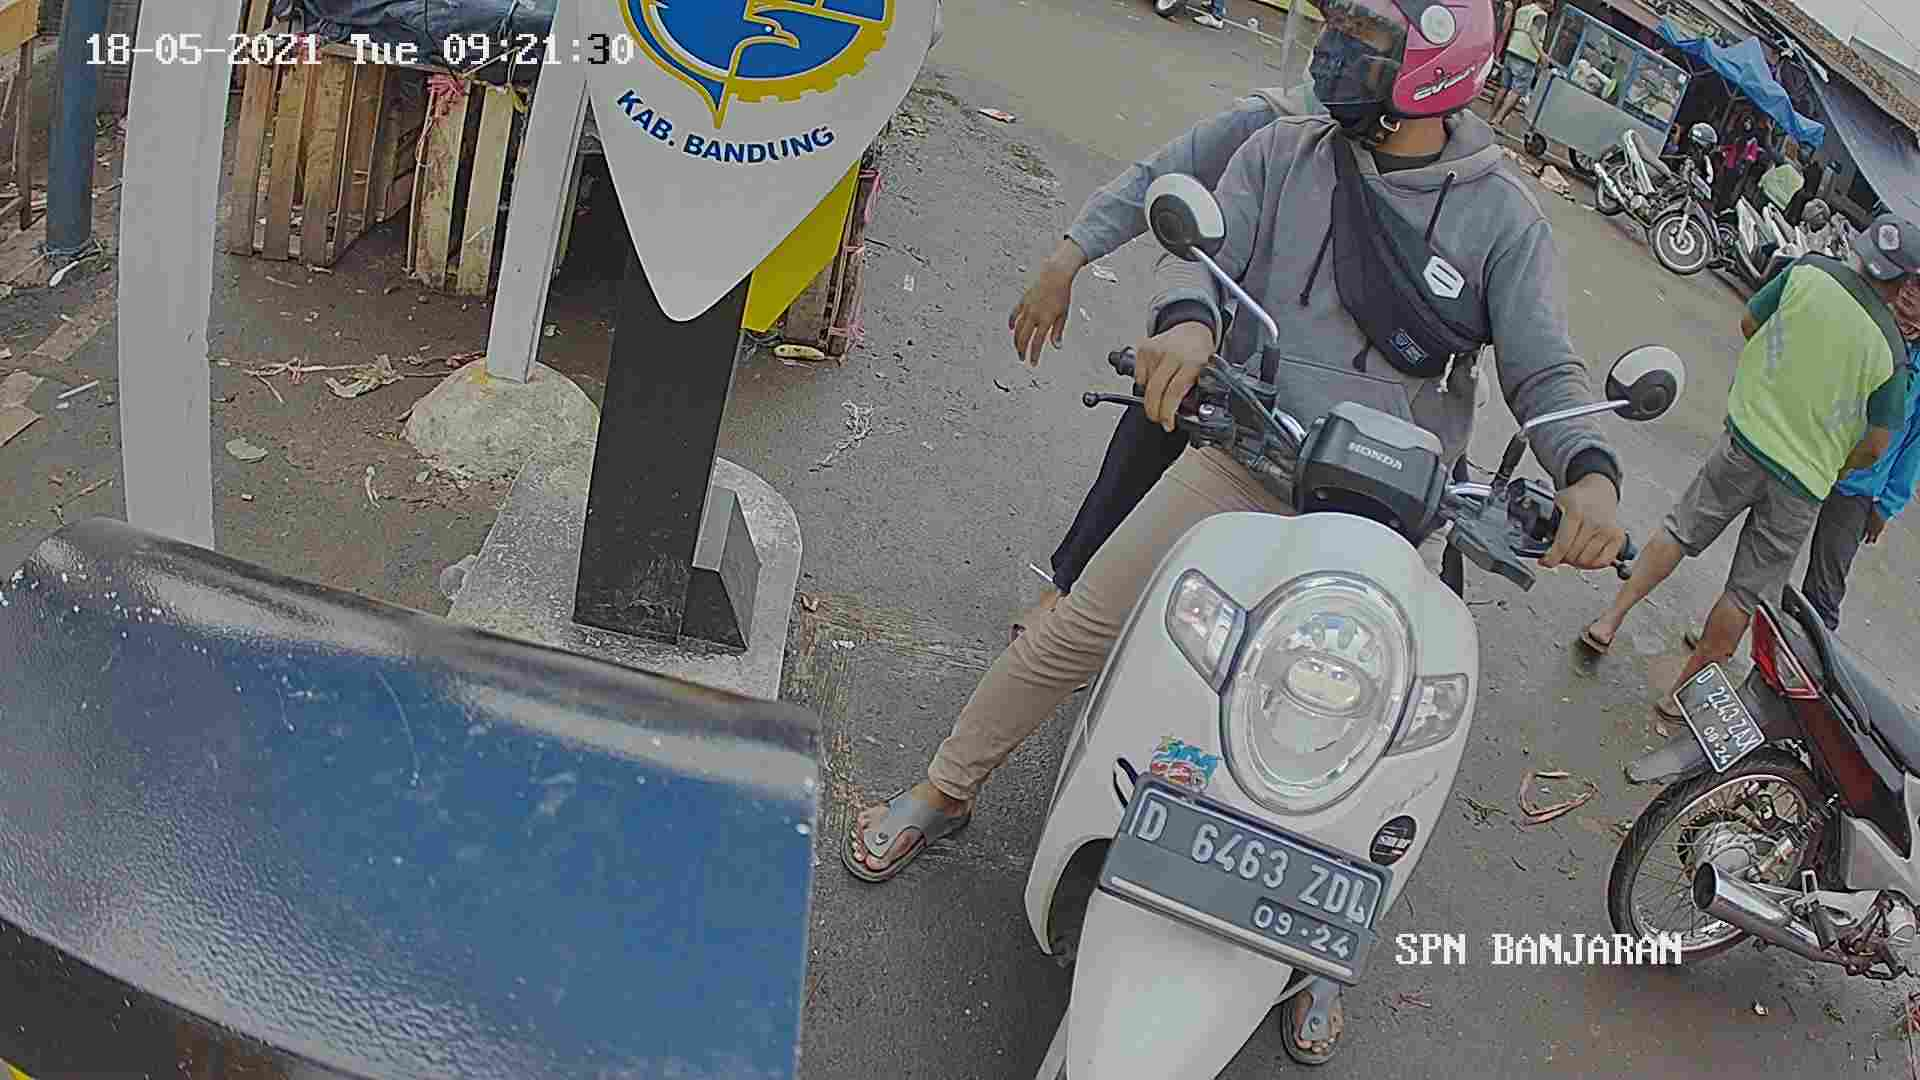motor: (938, 253, 1607, 1080)
